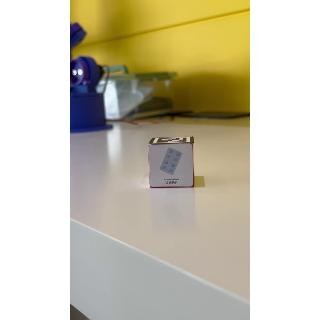Tablet: (148, 147, 198, 190)
